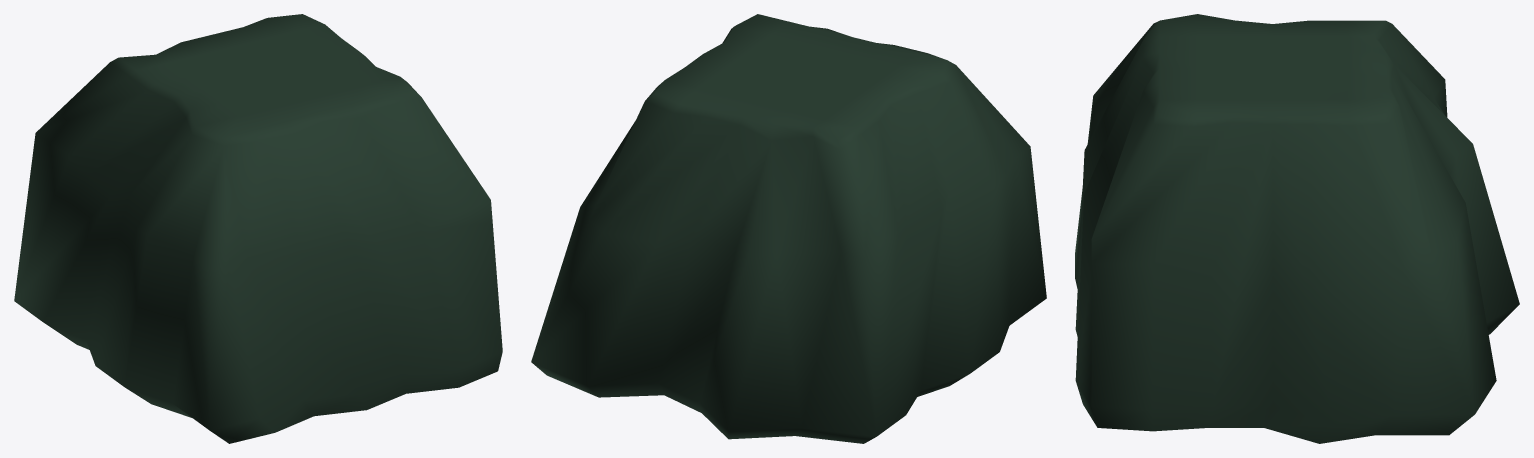
File: BultoLonaAmorfo.fbx
3 renders of one model, left to right at view 1: azimuth 30°, elevation 25°; view 2: azimuth 150°, elevation 25°; view 3: azimuth 270°, elevation 25°, orthographic. The views are drawn at different scales.
Parts seen in each view (by area): view 1: BultoLonaAmorfo; view 2: BultoLonaAmorfo; view 3: BultoLonaAmorfo.
Boxes of the visible parts, x1,y1,x2,y2 form: BultoLonaAmorfo: (14,14,502,443); BultoLonaAmorfo: (531,14,1046,443); BultoLonaAmorfo: (1075,14,1519,443).
Bounding box in the file's own units: 257 × 188 × 267.
